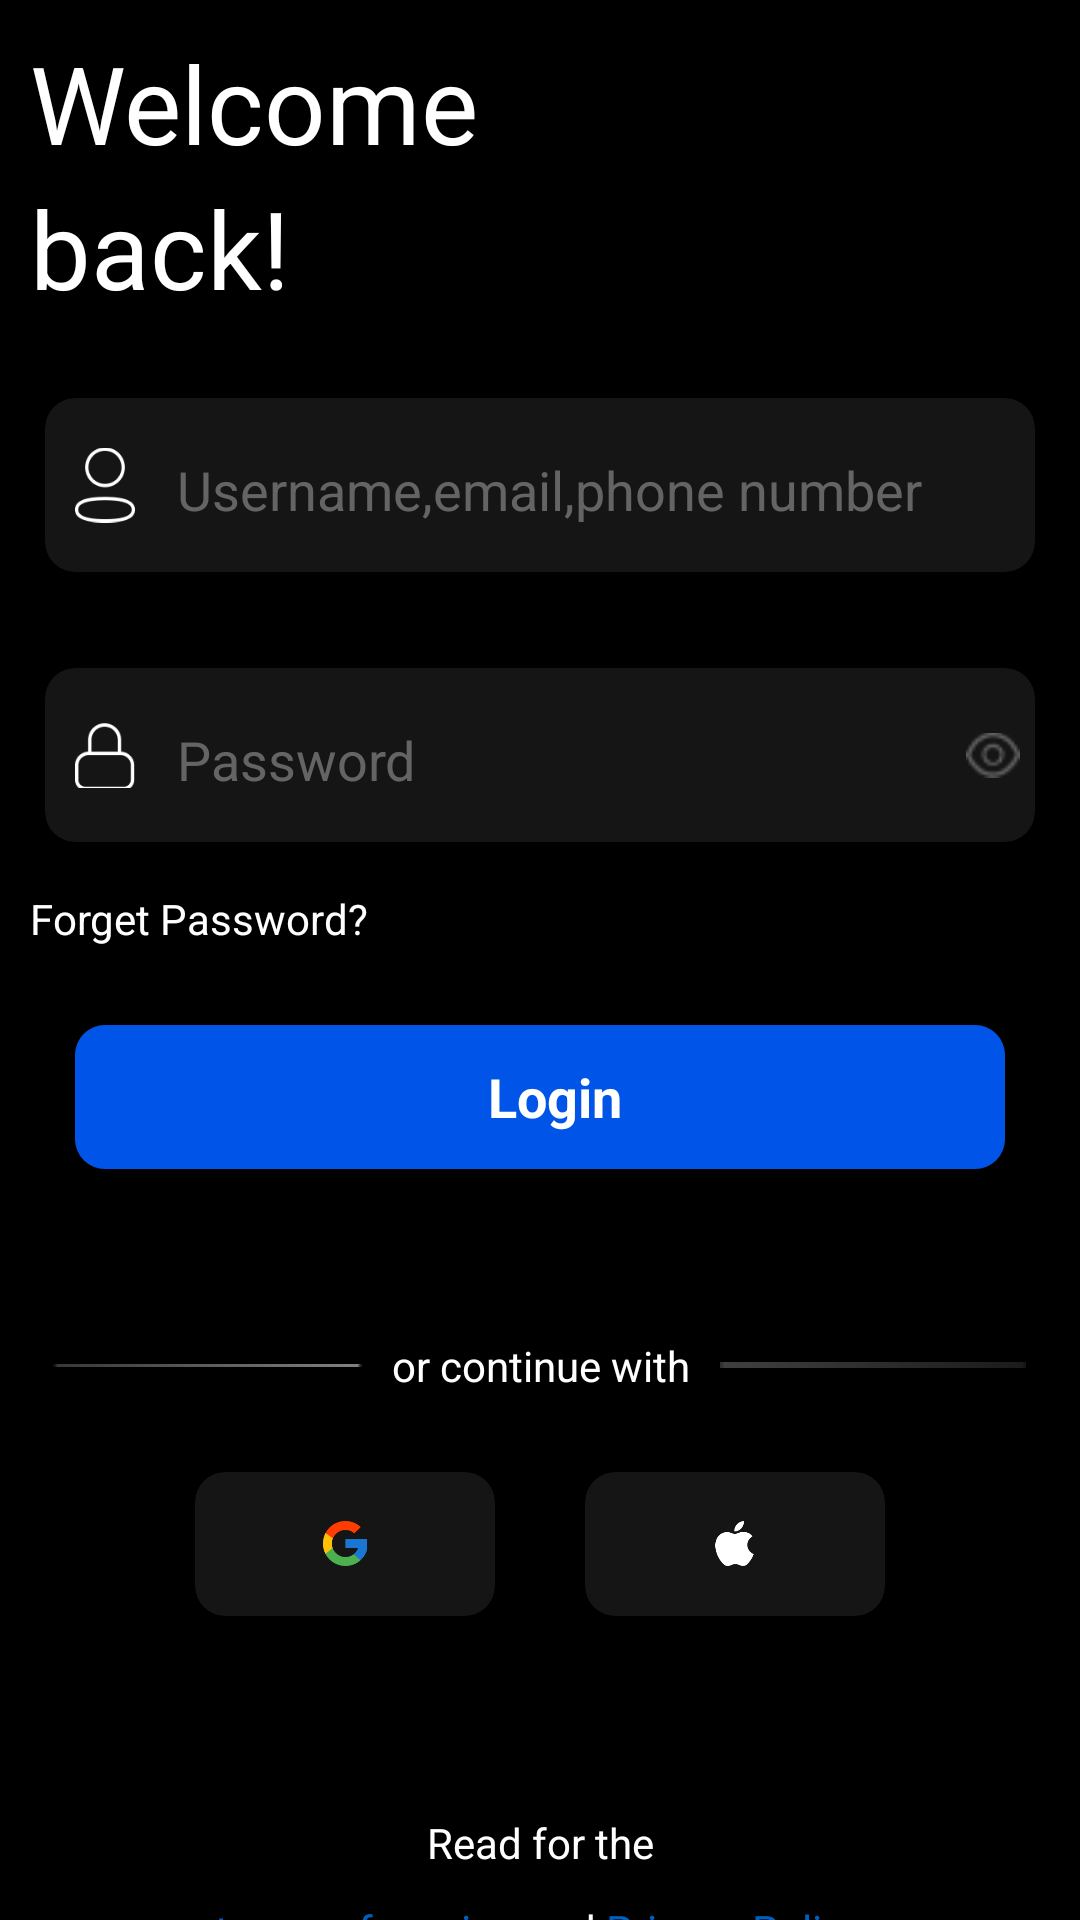

Where to tap for icons on this 1080x1920 app screen, as point (x, y):
lock: point (105, 755)
profile name: point (105, 485)
seen: point (993, 755)
